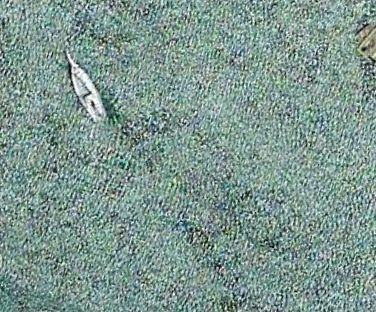boat: (65, 48, 108, 124)
